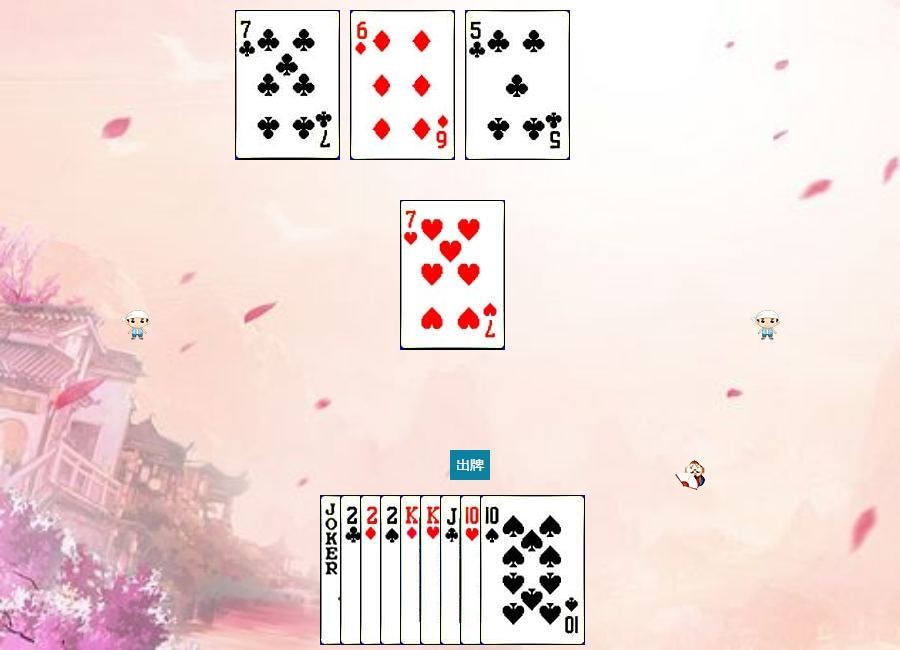10~3: (460, 495, 565, 645)
10~4: (480, 495, 585, 645)
11~2: (440, 495, 545, 645)
13~1: (400, 495, 505, 645)
13~3: (420, 495, 525, 645)
15~1: (360, 495, 465, 645)
15~2: (340, 495, 445, 645)
15~4: (380, 495, 485, 645)
17~3: (320, 495, 425, 645)
5~2: (465, 10, 570, 160)
6~1: (350, 10, 455, 160)
7~2: (235, 10, 340, 160)
7~3: (400, 200, 505, 350)
